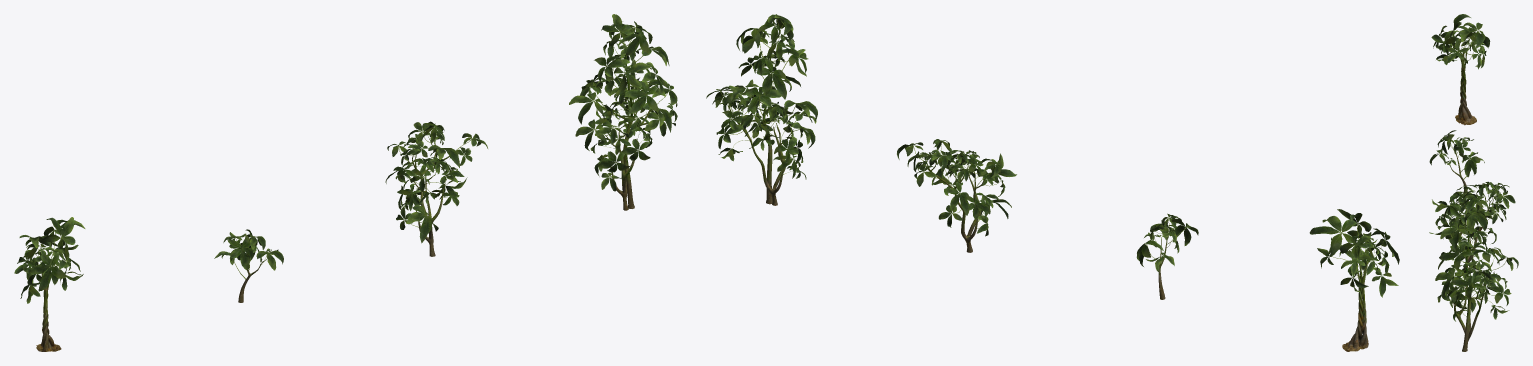
The model's file is pachira_aquatica_01.glb.
3 renders of one model, left to right at view 1: azimuth 30°, elevation 25°; view 2: azimuth 150°, elevation 25°; view 3: azimuth 270°, elevation 25°, orthographic. The views are drawn at different scales.
Visible parts, largest first — view 1: pachira_aquatica_01_leaves_d, pachira_aquatica_01_leaves_c, pachira_aquatica_01_leaves_a, pachira_aquatica_01_leaves_b, pachira_aquatica_01_bark_d, pachira_aquatica_01_bark_c, pachira_aquatica_01_bark_a; view 2: pachira_aquatica_01_leaves_d, pachira_aquatica_01_leaves_c, pachira_aquatica_01_leaves_a, pachira_aquatica_01_leaves_b, pachira_aquatica_01_bark_d, pachira_aquatica_01_bark_a, pachira_aquatica_01_bark_c; view 3: pachira_aquatica_01_leaves_d, pachira_aquatica_01_leaves_c, pachira_aquatica_01_leaves_a, pachira_aquatica_01_leaves_b, pachira_aquatica_01_bark_d, pachira_aquatica_01_bark_a, pachira_aquatica_01_bark_c, pachira_aquatica_01_bark_b.
Part boxes in pixels (<box>): pachira_aquatica_01_leaves_d: <box>569,14,677,191</box>; pachira_aquatica_01_leaves_c: <box>385,121,487,243</box>; pachira_aquatica_01_leaves_a: <box>14,217,85,303</box>; pachira_aquatica_01_leaves_b: <box>214,229,283,279</box>; pachira_aquatica_01_bark_d: <box>595,44,652,210</box>; pachira_aquatica_01_bark_c: <box>409,137,457,256</box>; pachira_aquatica_01_bark_a: <box>36,265,61,351</box>; pachira_aquatica_01_leaves_d: <box>706,14,817,179</box>; pachira_aquatica_01_leaves_c: <box>897,139,1016,236</box>; pachira_aquatica_01_leaves_a: <box>1309,209,1399,297</box>; pachira_aquatica_01_leaves_b: <box>1136,213,1198,274</box>; pachira_aquatica_01_bark_d: <box>728,43,792,205</box>; pachira_aquatica_01_bark_a: <box>1342,259,1368,351</box>; pachira_aquatica_01_bark_c: <box>923,159,985,252</box>; pachira_aquatica_01_leaves_d: <box>1429,190,1518,321</box>; pachira_aquatica_01_leaves_c: <box>1432,181,1515,244</box>; pachira_aquatica_01_leaves_a: <box>1431,14,1490,69</box>; pachira_aquatica_01_leaves_b: <box>1429,130,1484,179</box>; pachira_aquatica_01_bark_d: <box>1454,219,1492,351</box>; pachira_aquatica_01_bark_a: <box>1455,50,1476,125</box>; pachira_aquatica_01_bark_c: <box>1453,193,1497,268</box>; pachira_aquatica_01_bark_b: <box>1447,149,1467,195</box>.
Size of the model in its own units: 6.87 by 1.9 by 0.997.
2 materials, 2 textured.
